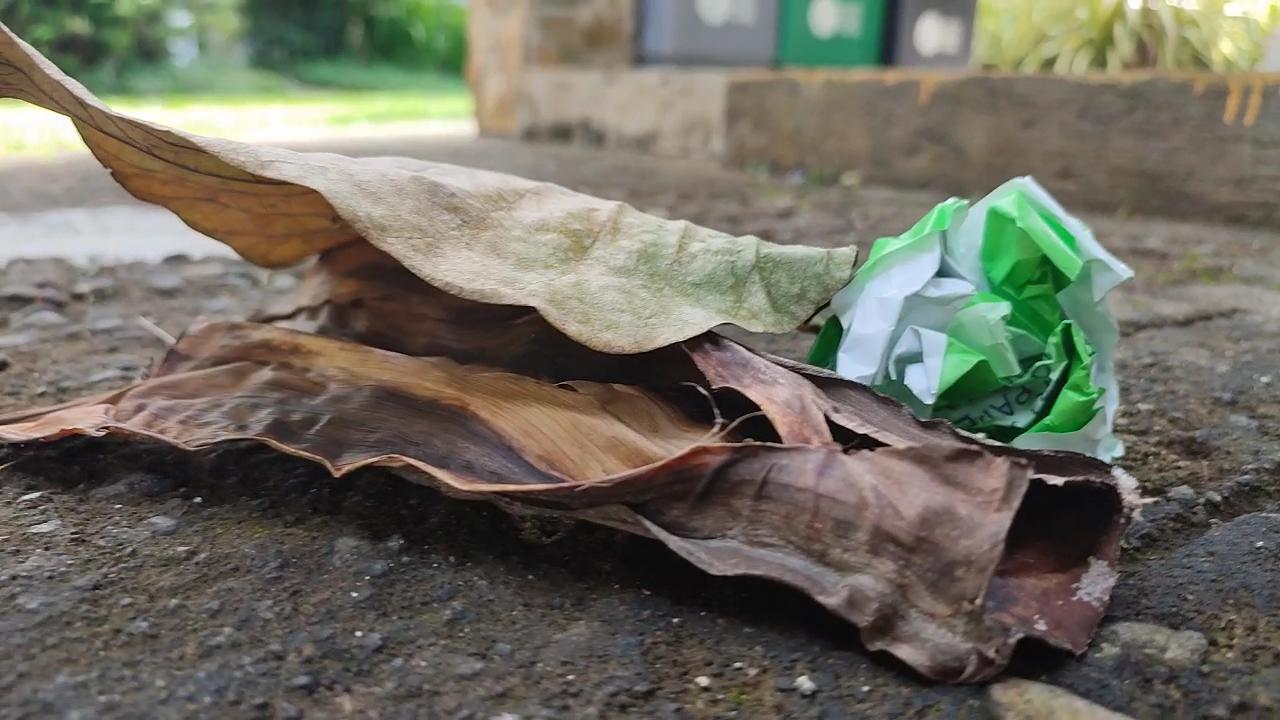Paper: (828, 148, 1149, 484)
